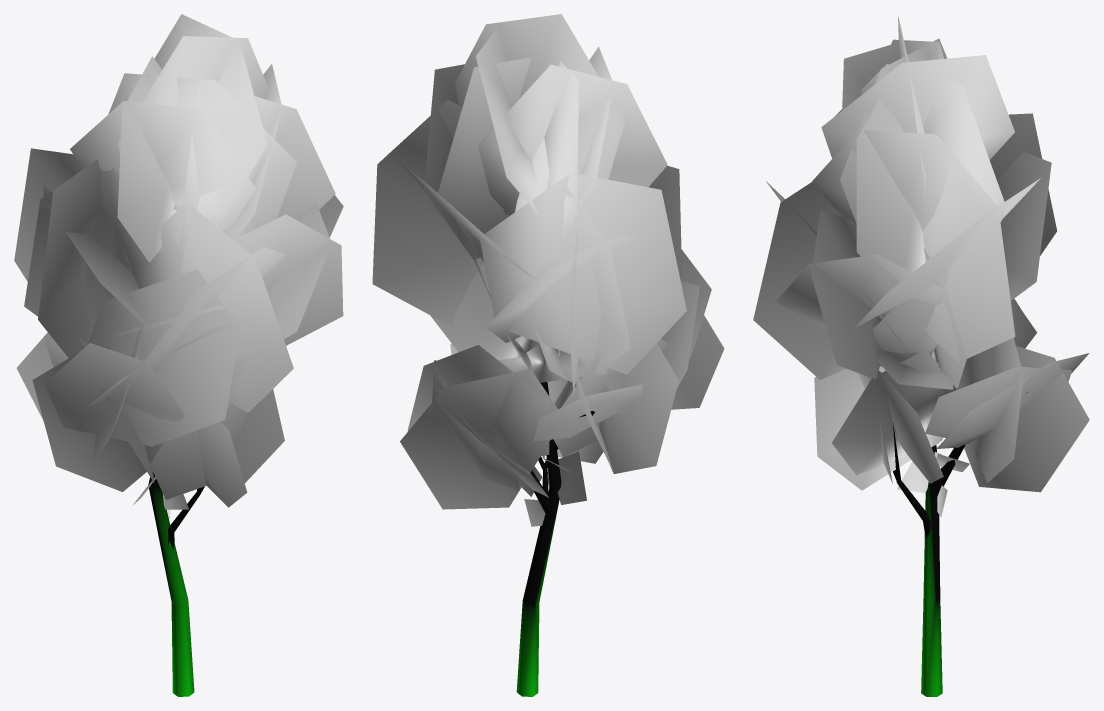
The model's file is SM_OakSapling2.FBX.
3 views of the same model, side by side, from view 1: azimuth 30°, elevation 25°; view 2: azimuth 150°, elevation 25°; view 3: azimuth 270°, elevation 25° (orthographic).
Visible parts, largest first — view 1: SM_OakSapling2_LOD0; view 2: SM_OakSapling2_LOD0; view 3: SM_OakSapling2_LOD0.
Part boxes in pixels (box(x1,y1,x2,y2)): SM_OakSapling2_LOD0: box(14, 14, 343, 696); SM_OakSapling2_LOD0: box(372, 14, 724, 696); SM_OakSapling2_LOD0: box(753, 15, 1089, 696).
Bounding box in the file's own units: 278 × 280 × 616.
